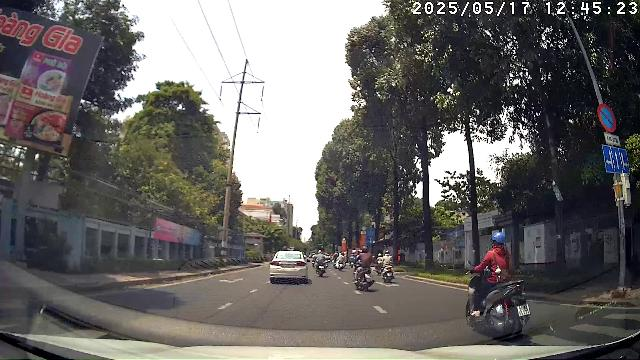131a-cam-do-xe: (598, 103, 616, 132)
